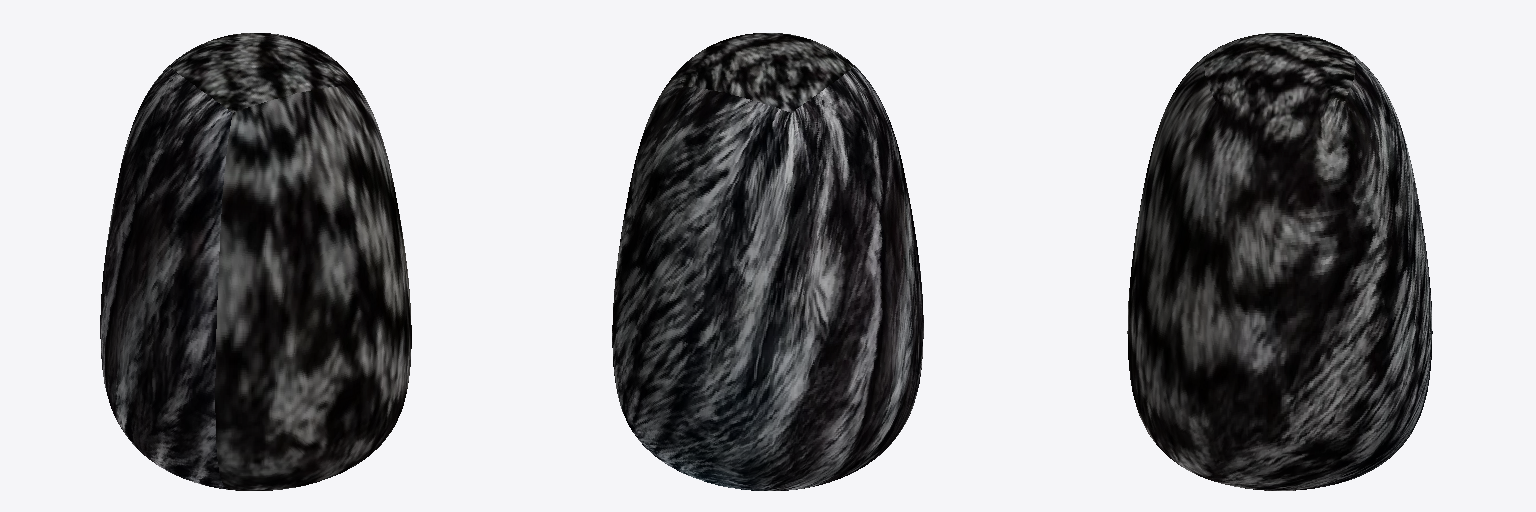
3 renders of one model, left to right at view 1: azimuth 30°, elevation 25°; view 2: azimuth 150°, elevation 25°; view 3: azimuth 270°, elevation 25°, orthographic.
Visible parts, largest first — view 1: body; view 2: body; view 3: body.
Boxes of the visible parts, <box> form: body: <box>100,33,411,490</box>; body: <box>612,33,923,490</box>; body: <box>1127,33,1432,490</box>.
Bounding box in the file's own units: 1.75 × 2.67 × 1.75.
1 materials, 1 textured.